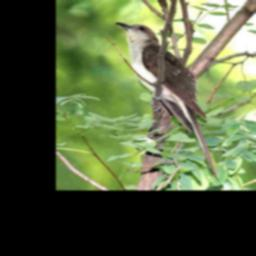Cuckoo: (115, 22, 220, 181)
